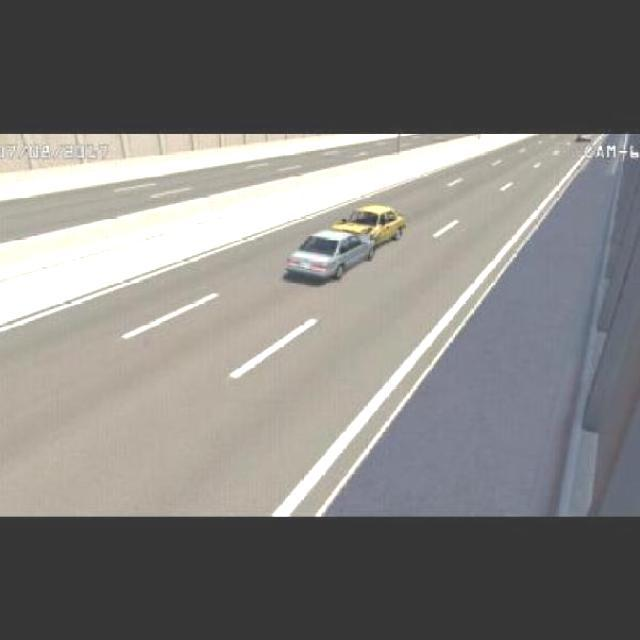accident: (272, 203, 406, 288)
